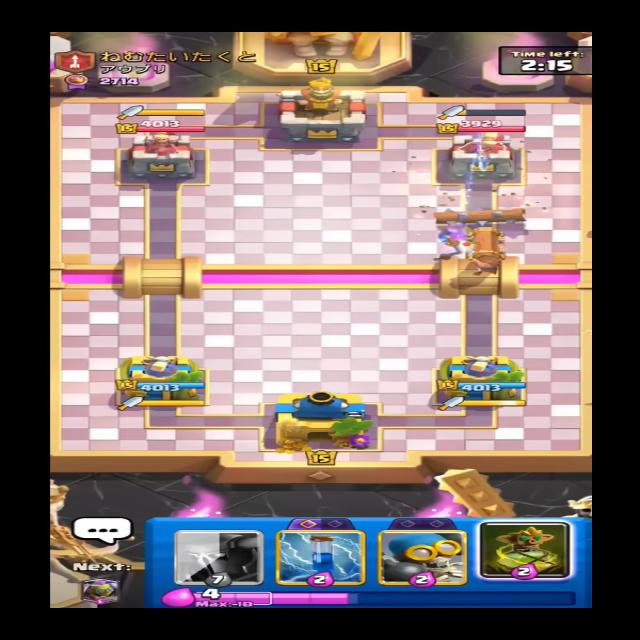log: (434, 205, 534, 228)
